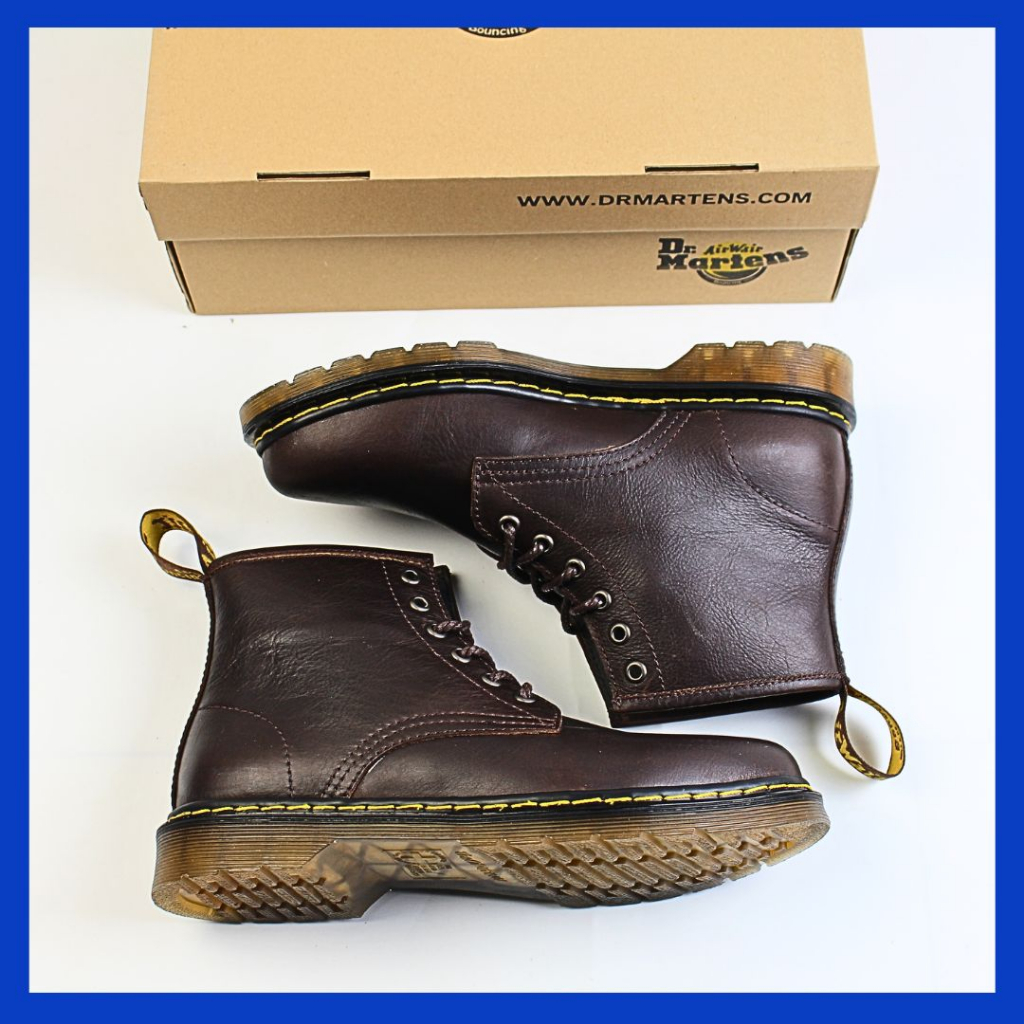boots: (239, 341, 909, 784), (139, 503, 832, 929)
